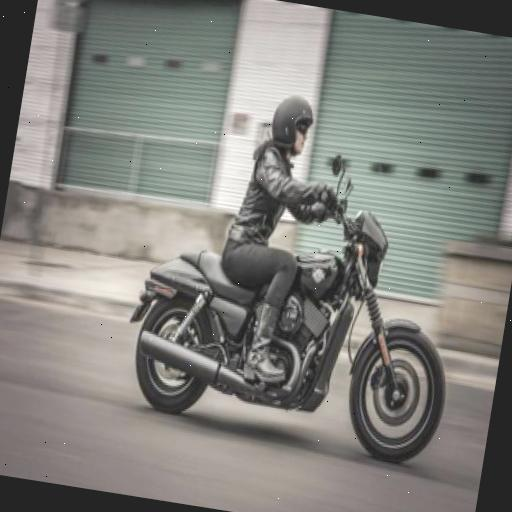helmet: (191, 62, 449, 462)
